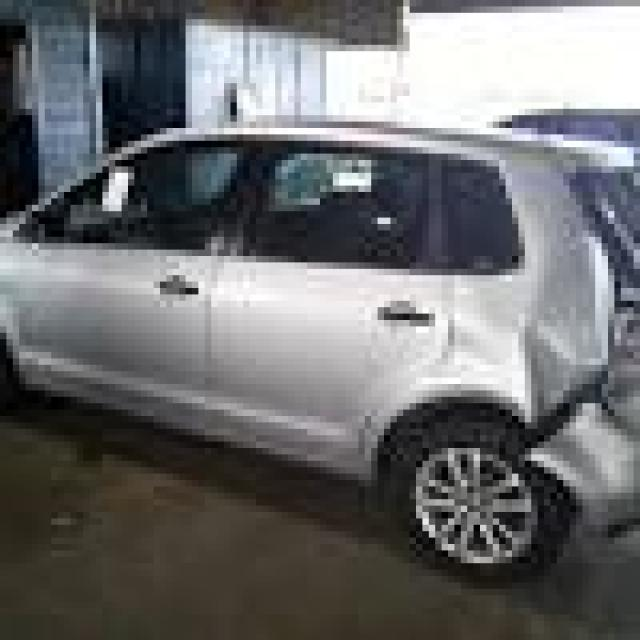minor: (470, 195, 640, 601)
